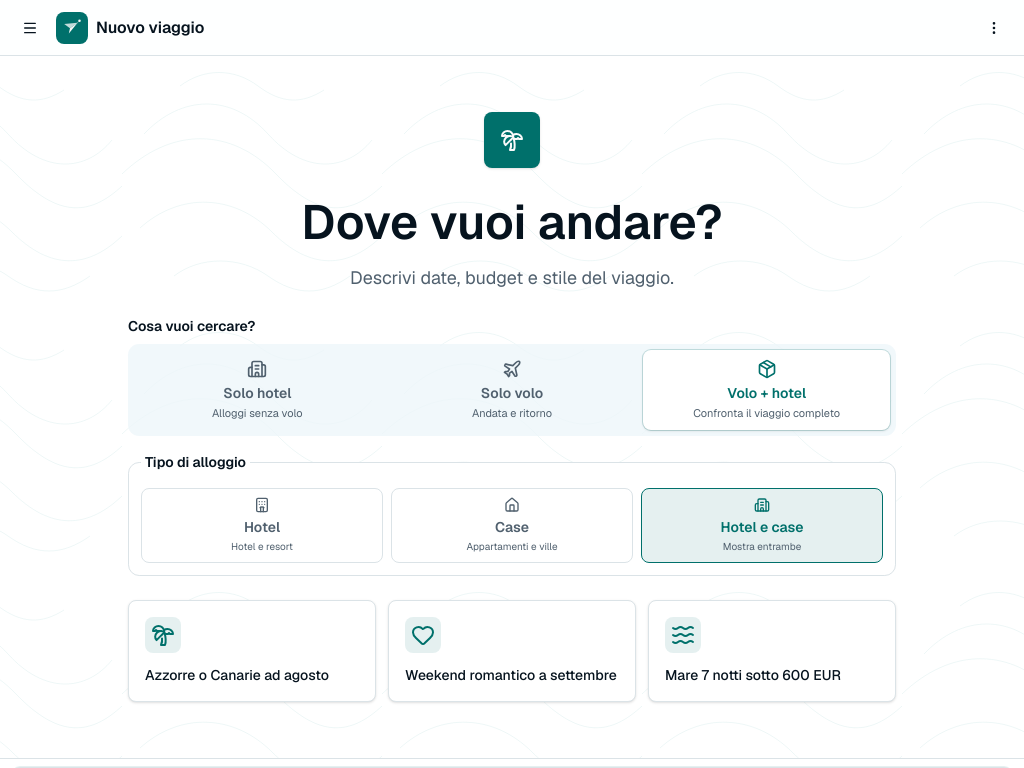
Test case: menu azioni si chiude premendo Escape
Click the button named "azioni".
click(994, 28)  # box [976,10,1012,46]
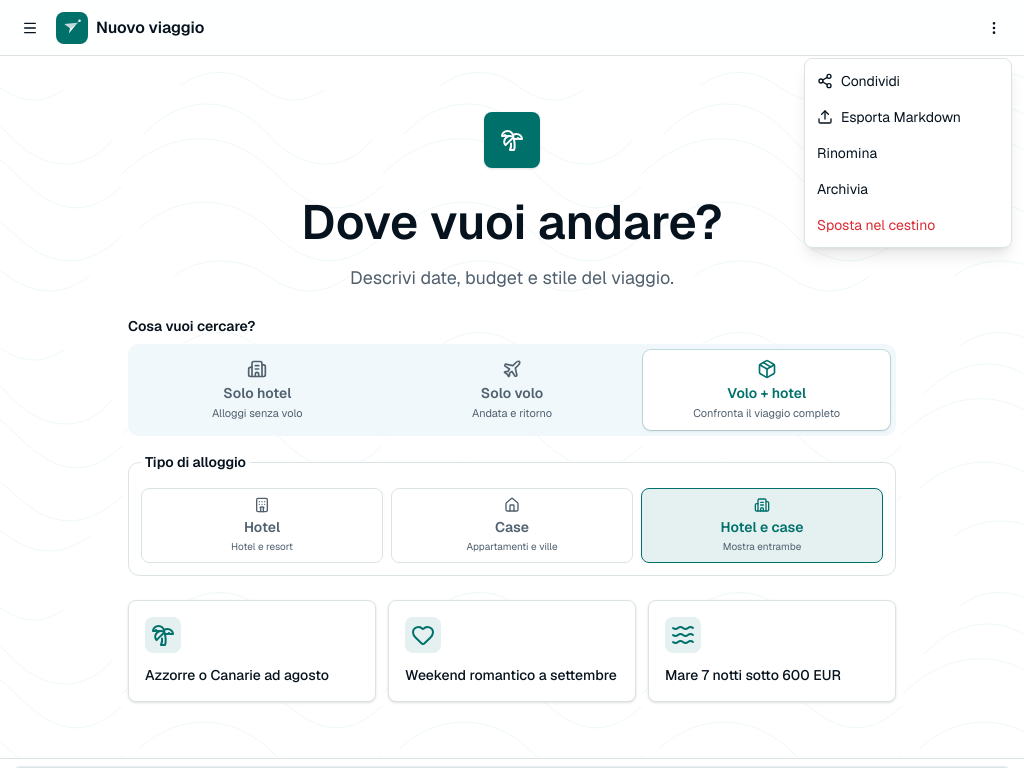
expect the button "Condividi" is shown: met, box [809,62,1007,98]
Press Escape
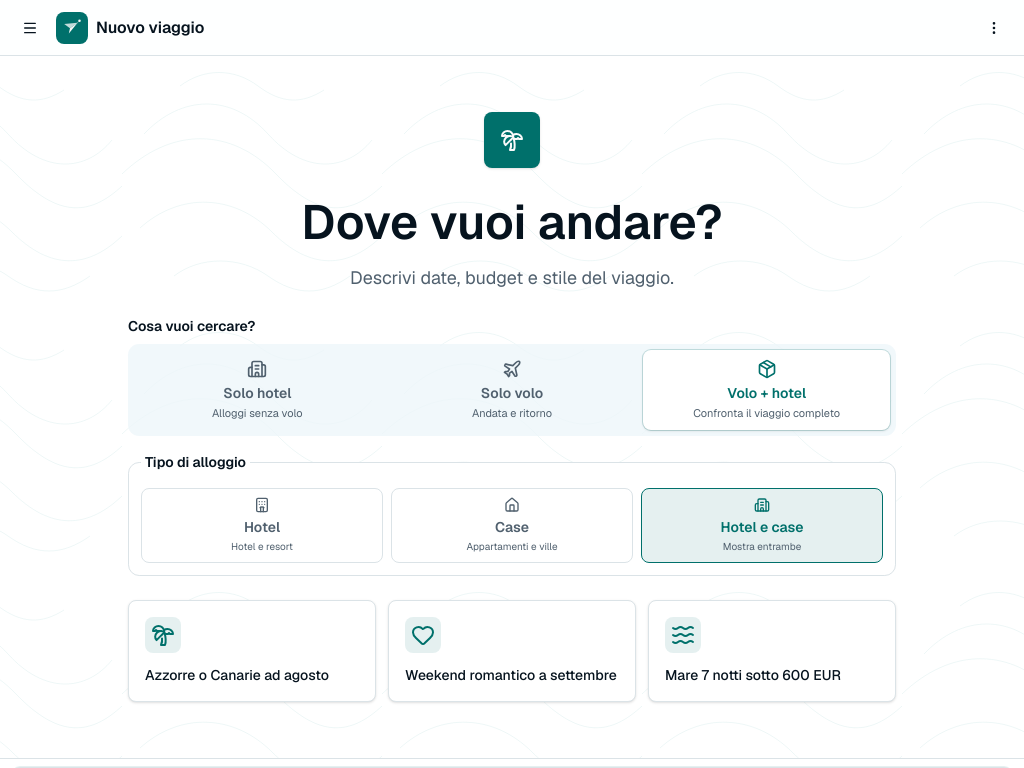
expect the button "Condividi" is gone: met
